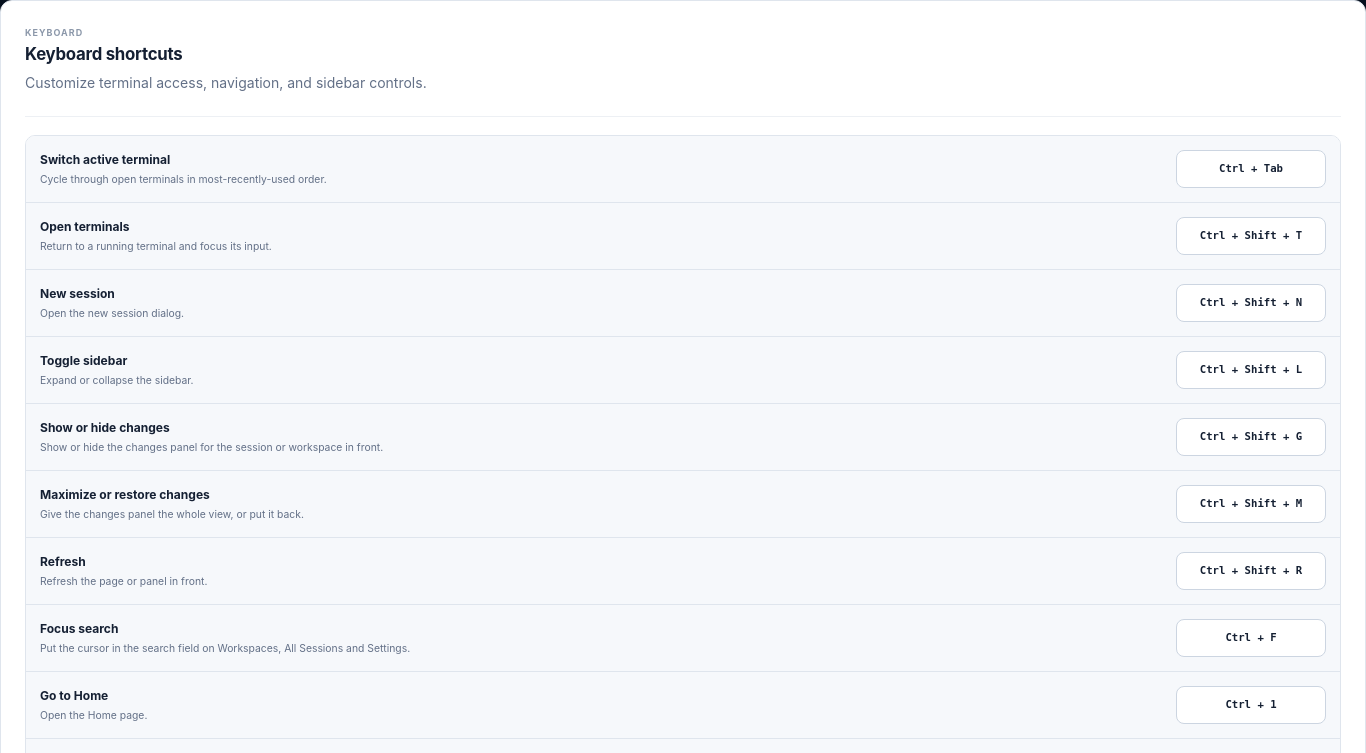
Test case: KeyboardShortcutsPanel › rejects a shortcut already assigned to another action
The image size is (1366, 753).
Click the button with aria-label "Record open terminals shortcut". click: coordinates (1251, 236)
box: left=1176, top=217, right=1326, bottom=255
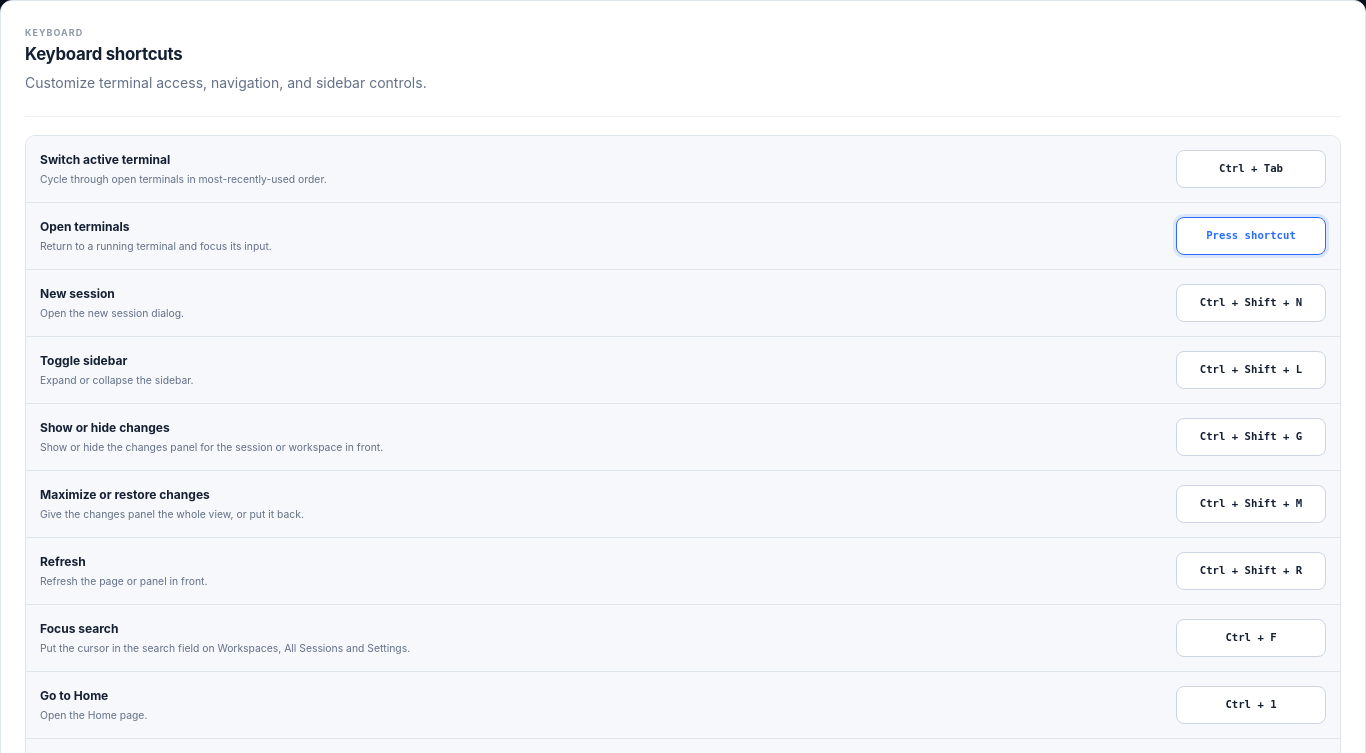
Press 1 in the button with aria-label "Record open terminals shortcut", box left=1176, top=217, right=1326, bottom=255
(page scrolled)
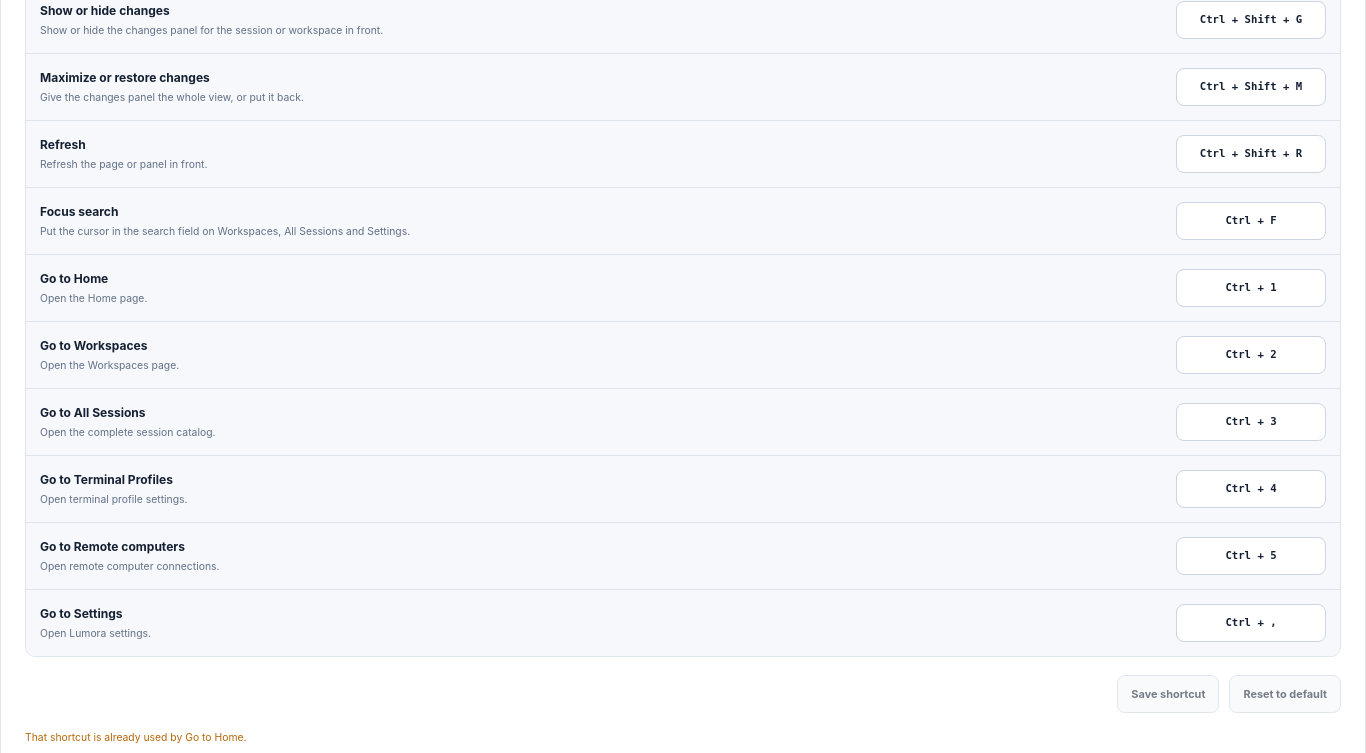
Result: the message shows "already used by Go to Home" at left=25, top=731, right=246, bottom=743
